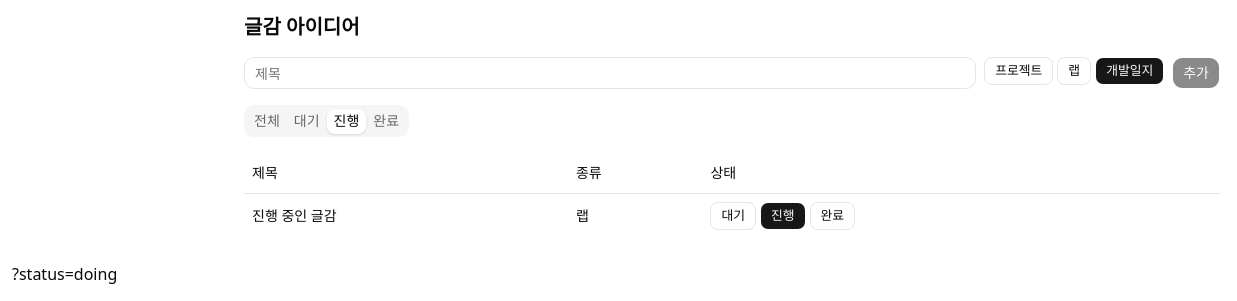
Test: IdeasPage › 정상 › 전체 탭을 누르면 status 쿼리가 주소에서 지워지고 전체를 조회해야 한다
Expected: the text "진행 중인 글감" is shown, [244,193,568,238]
Click the tab "전체". click: (267,121)
box: [247,108,287,134]
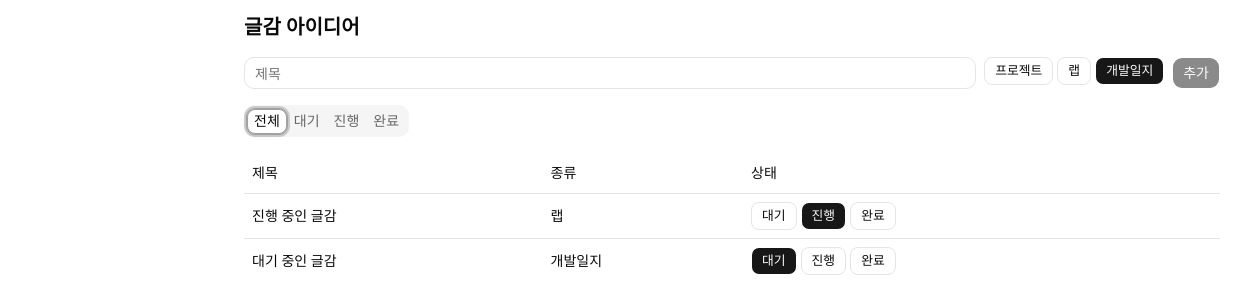
Now the text "대기 중인 글감" is shown, box [244,238,543,282]
